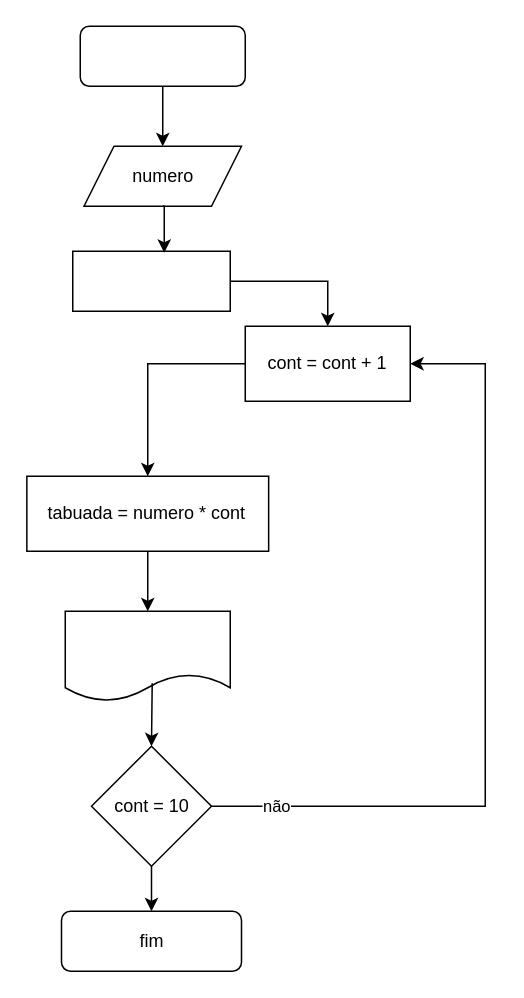
Image size: 524x998. Some labels were removed from this diagram. Here are the shapes that lost their labels. From the top down, the centre of each, then its label:
At point (162, 55): "inicio".
At point (150, 280): "cont = 0".
At point (147, 655): "tabuada".
